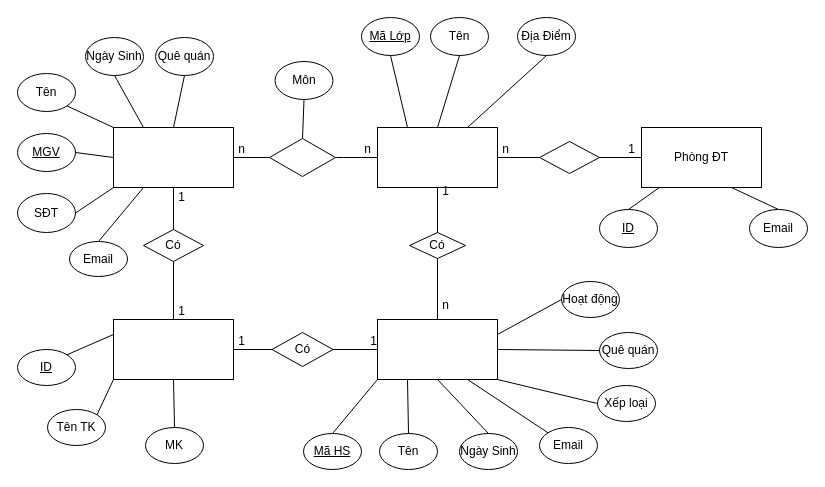
Image size: 825x487. Some labels were removed from this diagram. Each missing label, with the centre of its shape:
Dạy: the point at 302,157
Giáo Viên: the point at 173,157
Học Sinh: the point at 437,349
Lớp Học: the point at 437,157
Quản Lý: the point at 569,157
Tài Khoản: the point at 173,349
